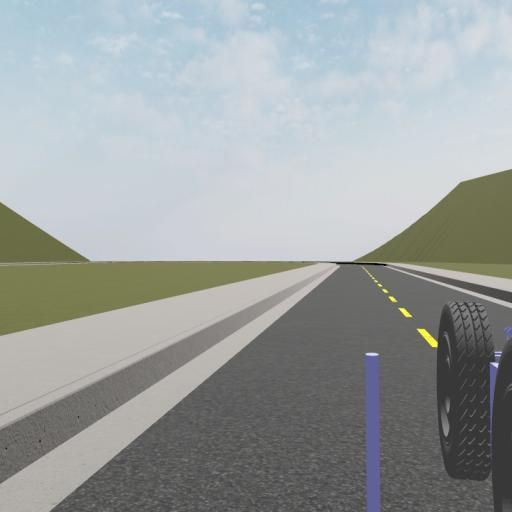ERP-42: (437, 300, 512, 510)
